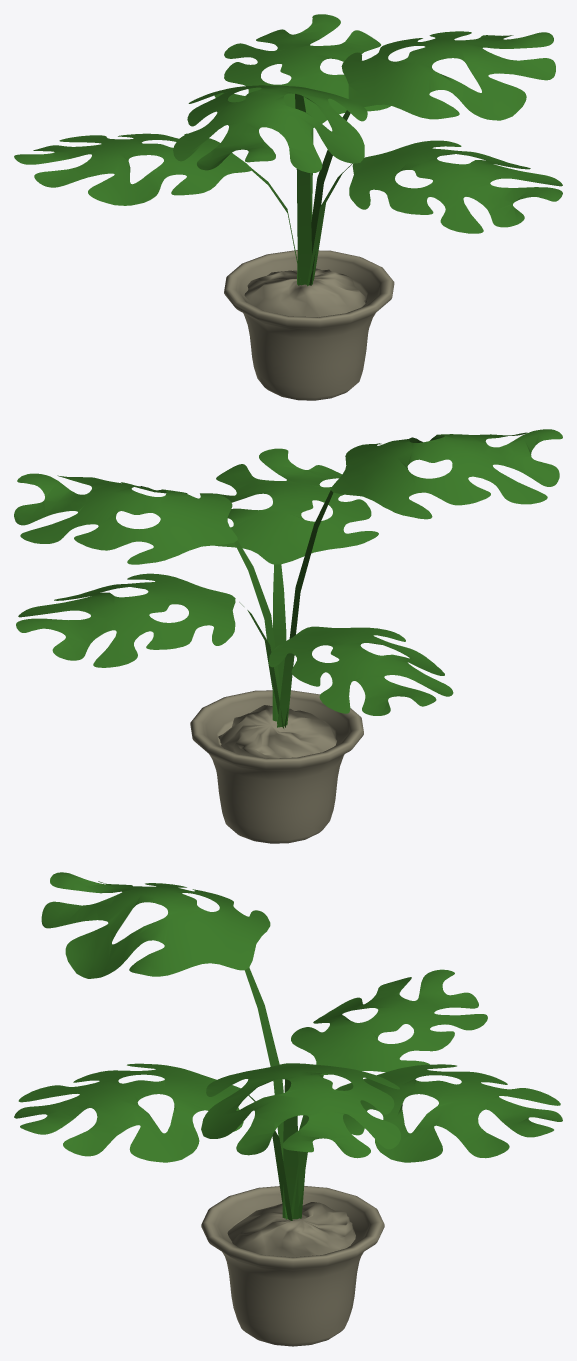
The model's file is zhiwu.obj.
3 renders of one model, top to bottom at view 1: azimuth 30°, elevation 25°; view 2: azimuth 150°, elevation 25°; view 3: azimuth 270°, elevation 25°, orthographic. The views are drawn at different scales.
Parts seen in each view (by area): view 1: Curve05, Line01, Sphere01; view 2: Curve05, Line01, Sphere01; view 3: Curve05, Line01, Sphere01.
Part boxes in pixels (x1,y1,x2,y2): Curve05: (14, 14, 562, 286); Line01: (224, 250, 394, 400); Sphere01: (244, 268, 365, 317); Curve05: (14, 429, 562, 728); Line01: (190, 690, 363, 843); Sphere01: (218, 705, 336, 758); Curve05: (14, 872, 562, 1220); Line01: (201, 1186, 384, 1346); Sphere01: (227, 1202, 355, 1257).
Size of the model in its own units: 379 by 273 by 359.
